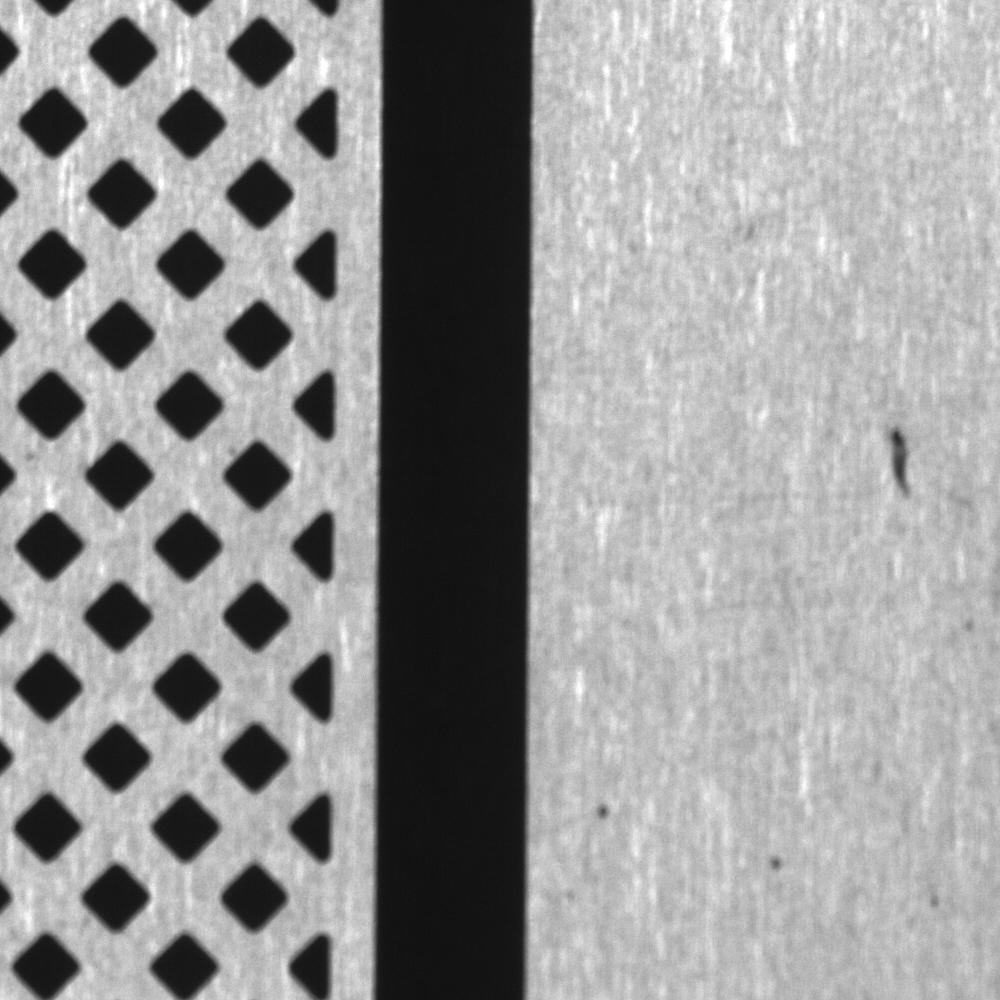Etching: (866, 397, 940, 524)
Pinhole: (571, 785, 628, 837), (752, 836, 807, 885), (913, 878, 952, 921)
